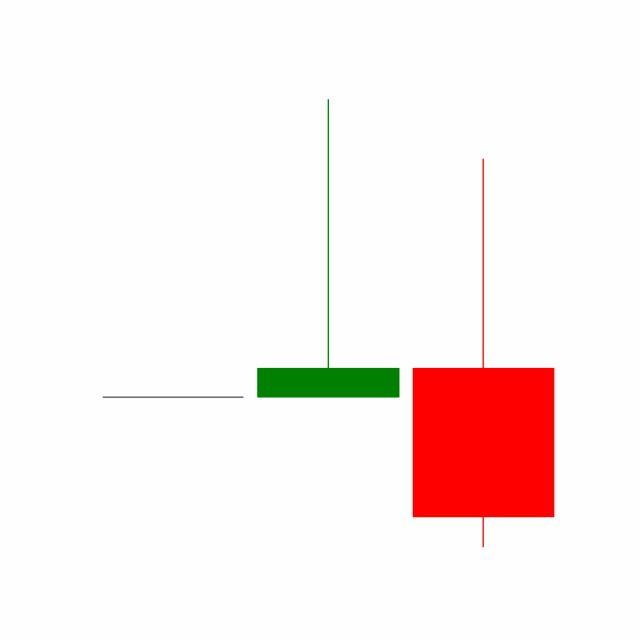Gravestone Doji: (249, 95, 406, 400)
